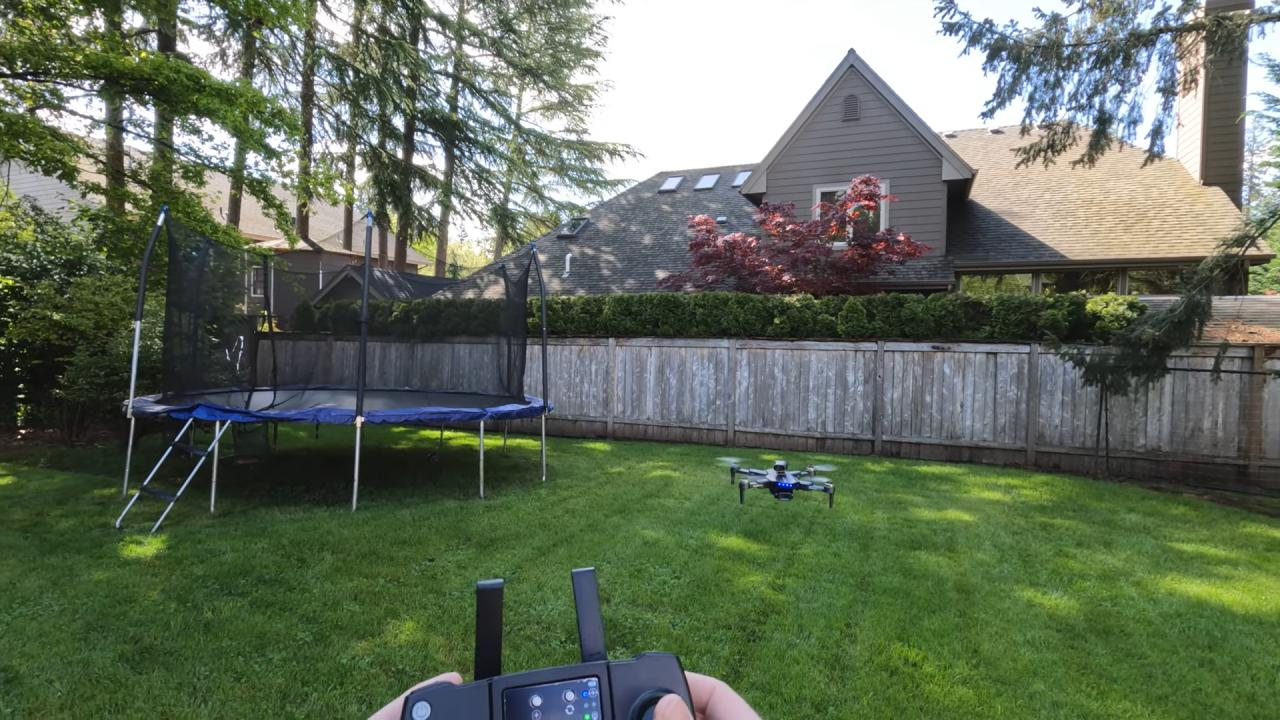Drone: (699, 446, 846, 514)
